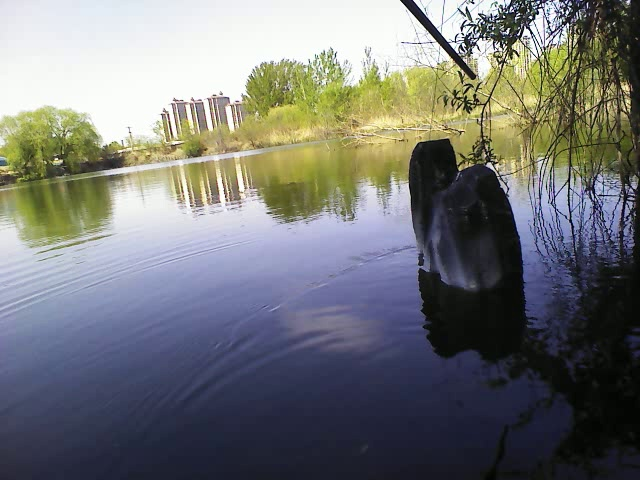rock: (405, 138, 524, 288)
